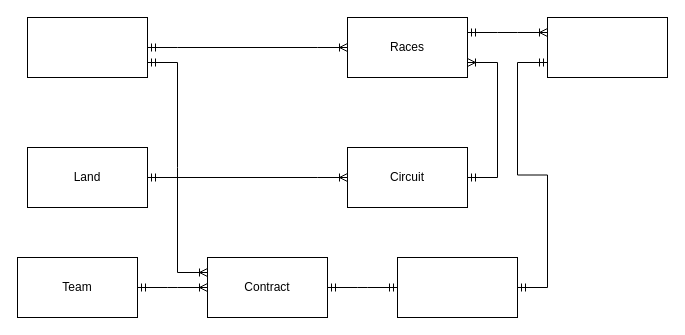
The diagram is 685 pixels wide and 335 high, and some of its shapes have lost their labels. Here are the shapes that lost their labels. From the top down, the centre of each, then its label:
At pixel 87 47: "Seizoen".
At pixel 607 47: "Resultaat".
At pixel 457 287: "Bestuurder".
